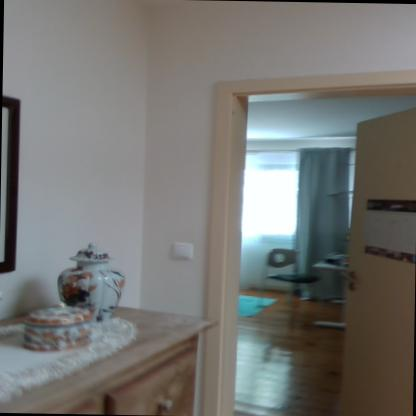semi: (200, 74, 415, 415)
